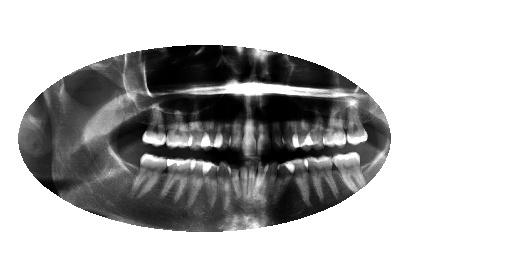i10healthy: (227, 162, 242, 211)
i11healthy: (211, 159, 234, 219)
i12healthy: (199, 154, 222, 213)
i13healthy: (180, 155, 215, 214)
i14healthy: (157, 152, 199, 209)
i15healthy: (126, 151, 172, 204)
i2healthy: (331, 146, 369, 195)
i3healthy: (302, 150, 345, 205)
i4healthy: (282, 152, 321, 212)
i5healthy: (267, 157, 297, 215)
i6decay: (264, 156, 279, 218)
i7decay: (252, 152, 271, 214)
i8decay: (244, 154, 260, 210)
i9healthy: (236, 162, 251, 216)
u10healthy: (222, 106, 246, 157)
u11healthy: (209, 114, 233, 151)
u12healthy: (195, 111, 220, 155)
u13healthy: (182, 110, 212, 156)
u14healthy: (162, 102, 197, 156)
u15healthy: (138, 99, 172, 150)
u2healthy: (343, 97, 370, 146)
u3healthy: (320, 104, 352, 152)
u4healthy: (302, 110, 328, 152)
u5healthy: (287, 111, 317, 153)
u6healthy: (279, 113, 303, 152)
u7decay: (269, 108, 289, 155)
u8decay: (253, 108, 273, 158)
u9healthy: (237, 93, 259, 161)
